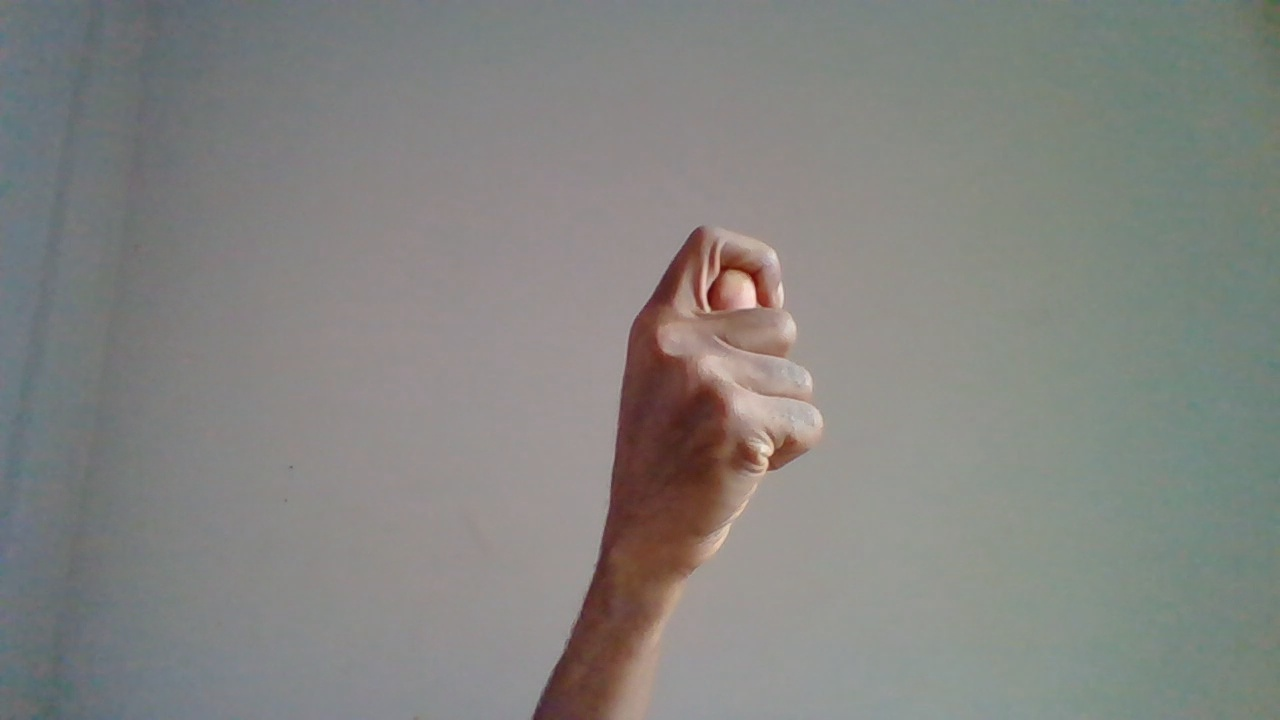che: (591, 221, 829, 682)
